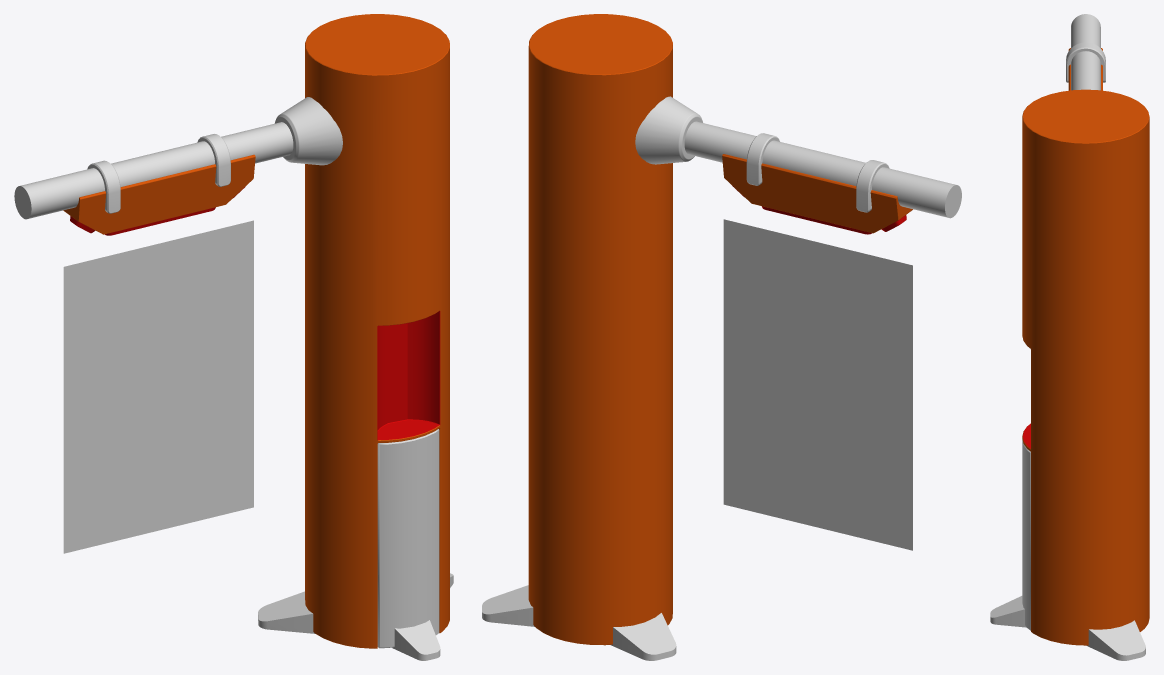
File: Vending.fbx
3 views of the same model, side by side, from view 1: azimuth 30°, elevation 25°; view 2: azimuth 150°, elevation 25°; view 3: azimuth 270°, elevation 25° (orthographic). The views are drawn at different scales.
Visible parts, largest first — view 1: Base, UI, Base2, HologramArm, HologramEmitter, Feet, Base3, HologramClamp; view 2: Base, UI, HologramArm, HologramEmitter, Feet, Base3, HologramClamp; view 3: Base, Feet, HologramArm, Base2, HologramClamp.
Boxes of the visible parts, x1,y1,x2,y2 form: Base: (305,14,449,648); UI: (63,220,253,553); Base2: (377,429,439,648); HologramArm: (14,122,293,219); HologramEmitter: (63,154,255,235); Feet: (258,573,453,660); Base3: (274,97,342,165); HologramClamp: (87,134,230,213); Base: (528,14,672,645); UI: (723,219,912,550); HologramArm: (684,121,961,218); HologramEmitter: (722,154,912,234); Feet: (482,585,676,660); Base3: (635,96,702,164); HologramClamp: (746,133,889,212); Base: (1022,89,1149,645); Feet: (990,596,1145,660); HologramArm: (1071,14,1100,90); Base2: (1022,439,1030,630); HologramClamp: (1066,42,1105,89).
Bounding box in the file's own units: 3.65 × 4.45 × 1.27.
